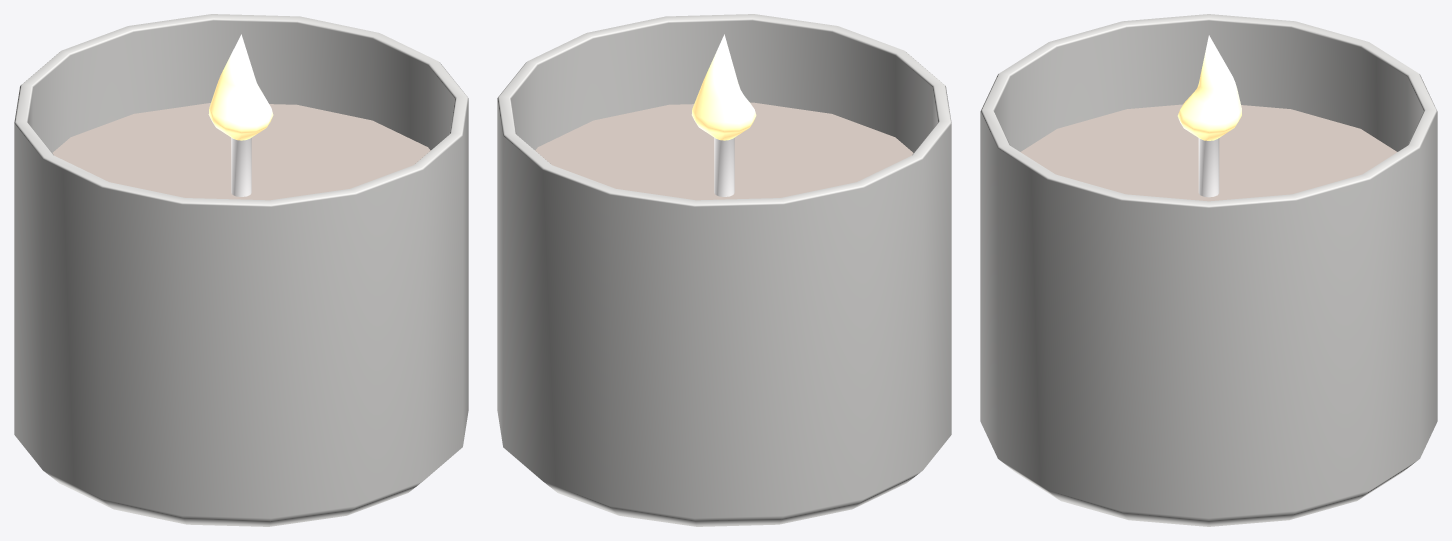
Rendered from Candle_1.glb.
The picture shows the model from 3 angles, left to right: view 1: azimuth 30°, elevation 25°; view 2: azimuth 150°, elevation 25°; view 3: azimuth 270°, elevation 25°; orthographic projection.
Parts seen in each view (by area): view 1: Candle_1; view 2: Candle_1; view 3: Candle_1.
Part boxes in pixels (x1=…): Candle_1: x1=14, y1=14, x2=468, y2=526; Candle_1: x1=497, y1=14, x2=951, y2=526; Candle_1: x1=980, y1=14, x2=1437, y2=526.
Size of the model in its own units: 0.1289 by 0.1256 by 0.1289.
3 materials, 2 textured.
